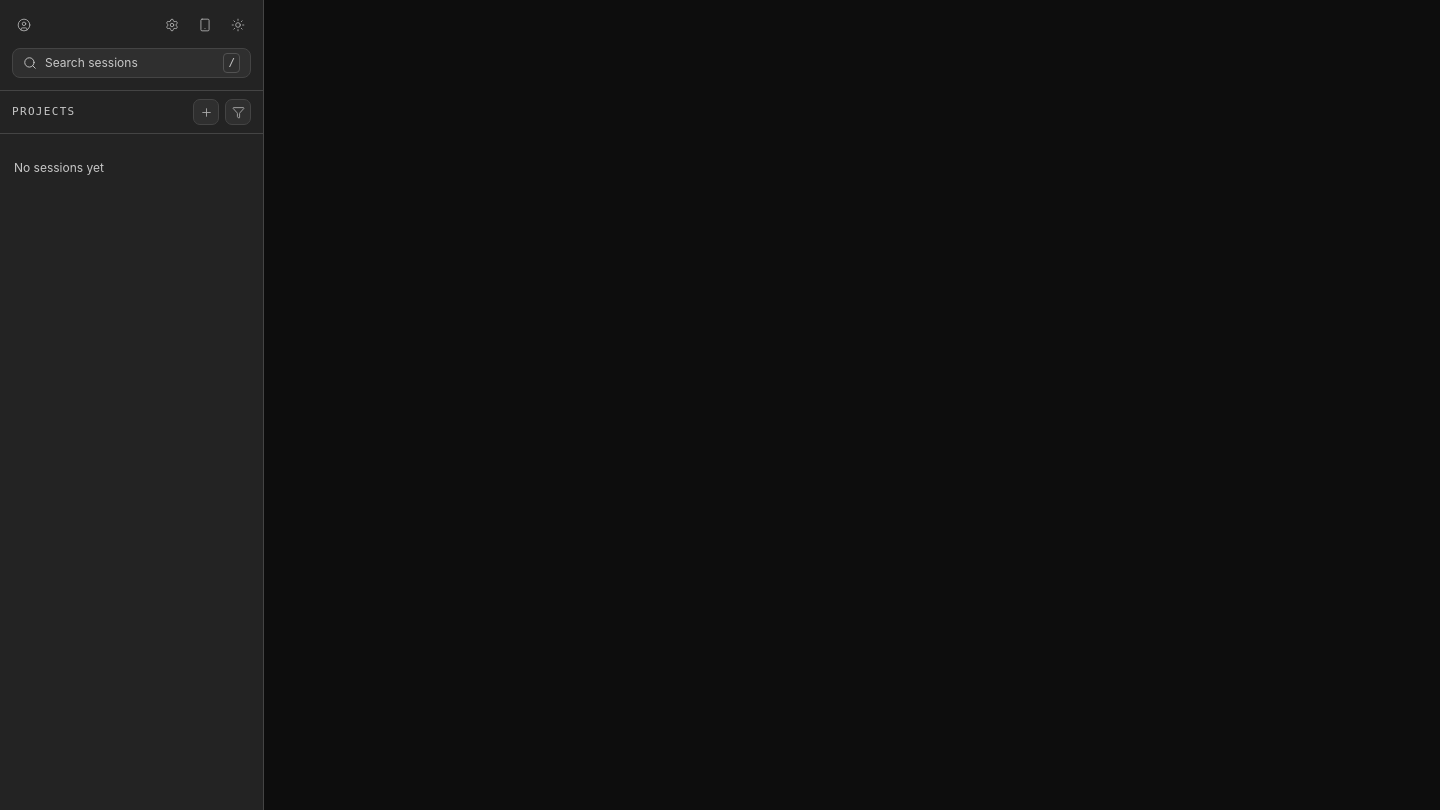
it: SessionList avatar bar › replaces the letter avatar with an account icon that opens the usage popover
Expected: the 1st element named "usage" is empty, 12,12 -> 251,38
Step 1. Click the button named "usage" → (24, 25), box 12,13 -> 36,37
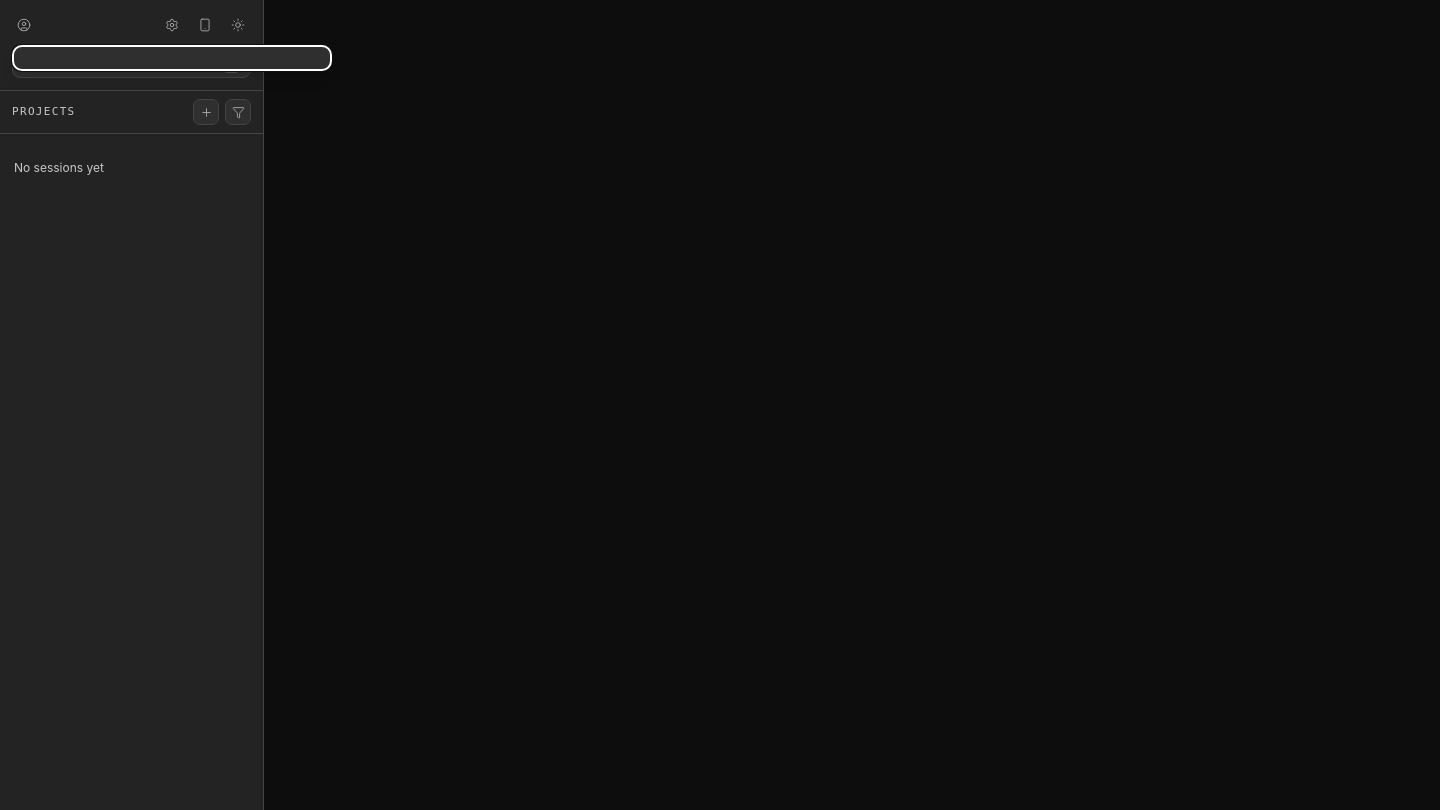
Expected: the dialog is shown, 12,45 -> 332,71
